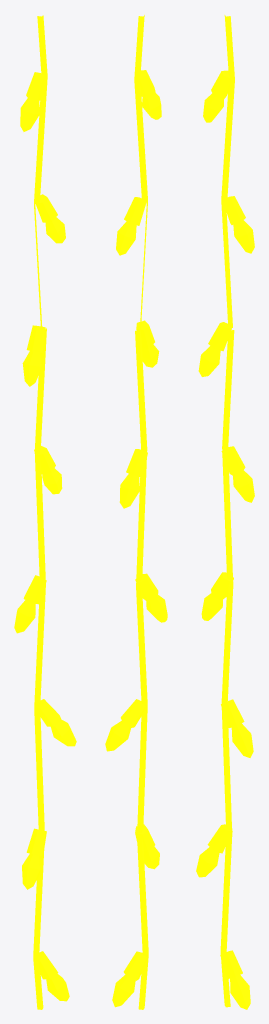
Rendered from light-string-color-big-vertical-2m-christmas.glb.
The picture shows the model from 3 angles, left to right: view 1: azimuth 30°, elevation 25°; view 2: azimuth 210°, elevation 25°; view 3: azimuth 330°, elevation 25°; orthographic projection.
Visible parts, largest first — view 1: light_string_color_big_vertical_2m_christmas; view 2: light_string_color_big_vertical_2m_christmas; view 3: light_string_color_big_vertical_2m_christmas.
Part boxes in pixels (bbox=[...]): light_string_color_big_vertical_2m_christmas: bbox=[14, 15, 76, 1009]; light_string_color_big_vertical_2m_christmas: bbox=[105, 15, 167, 1009]; light_string_color_big_vertical_2m_christmas: bbox=[196, 15, 254, 1009].
Bounding box in the file's own units: 0.1193 × 2 × 0.0623.
Materials: 2 (2 with a texture image).
